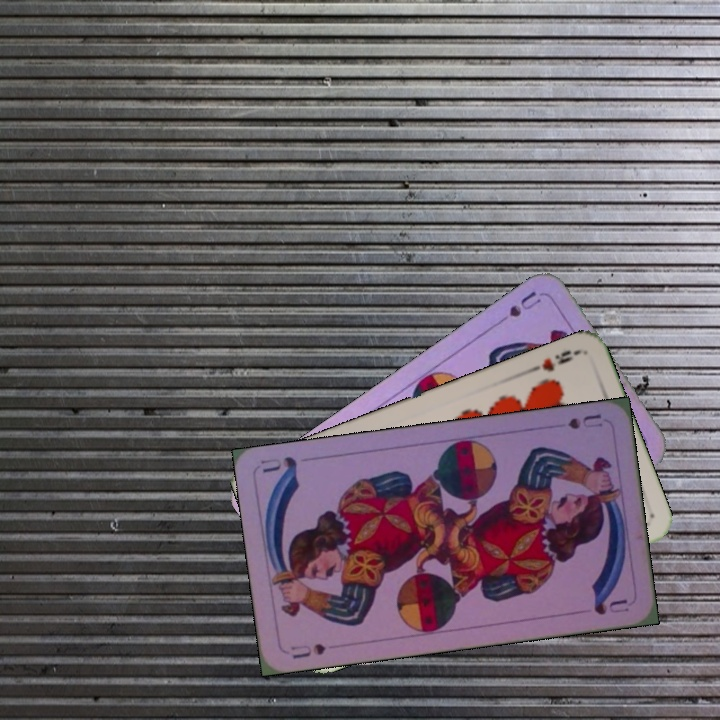H9: (524, 346, 581, 376)
SU: (490, 286, 545, 328), (563, 410, 605, 432), (286, 639, 328, 661)
